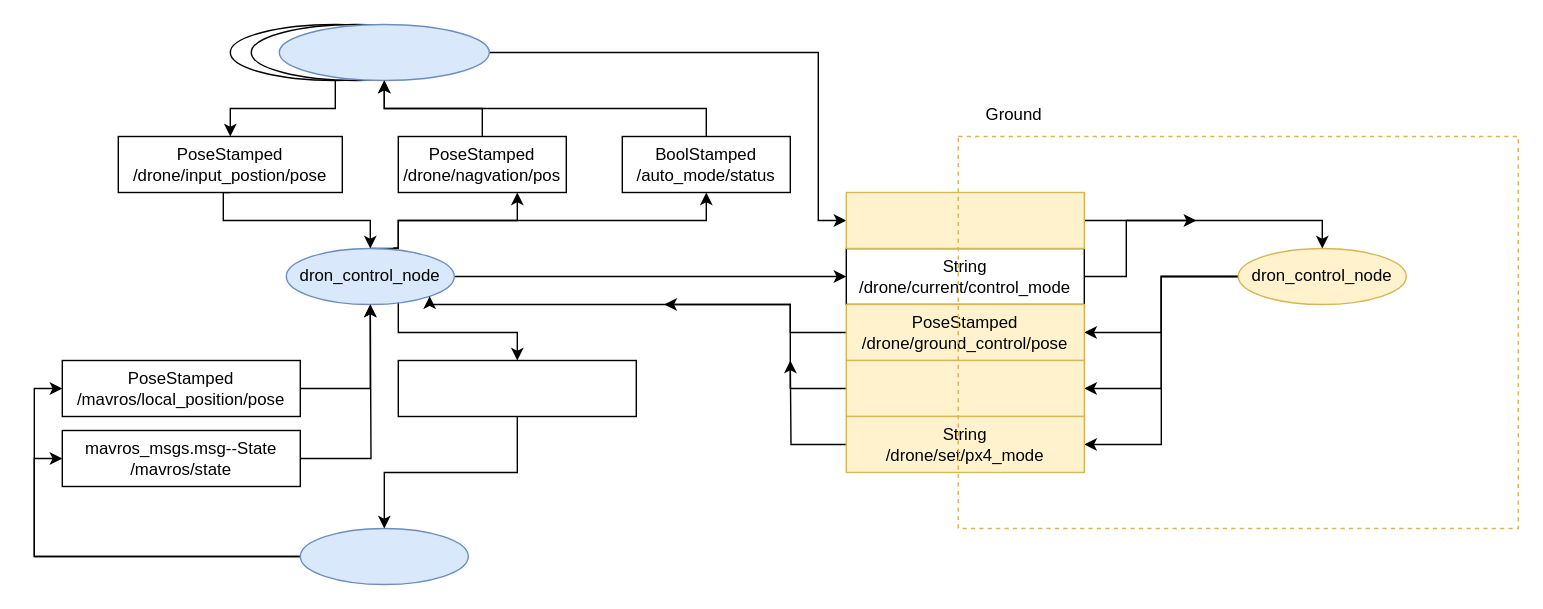
Some shapes in this 1543 by 609 pixel diagram are drawn without their labels. Here are the shapes that lost their labels. From the top down, the centre of each, then its label:
At (383,51): "vision_nagvation _nodes".
At (964,219): "Image /detection_result/image".
At (516,387): "PoseStamped /mavros/setpoint_position/local".
At (964,387): "String /drone/set/control_mode".
At (383,555): "Mavros".
